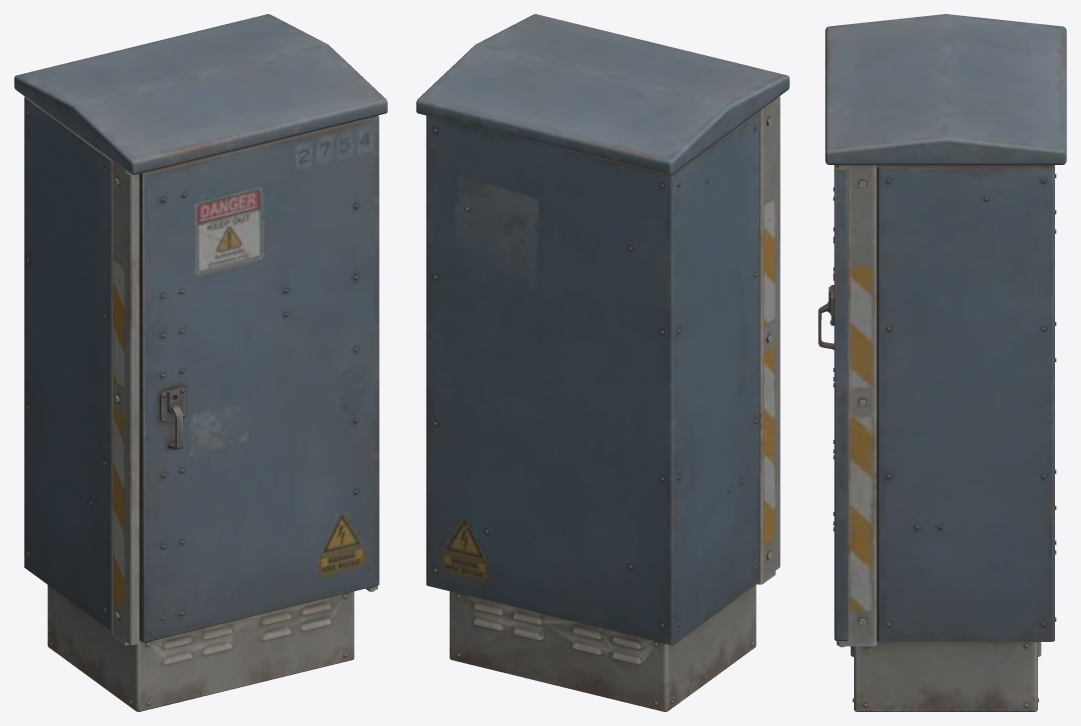
File: utility_box_01.glb
The picture shows the model from 3 angles, left to right: view 1: azimuth 30°, elevation 25°; view 2: azimuth 150°, elevation 25°; view 3: azimuth 270°, elevation 25°; orthographic projection.
Visible parts, largest first — view 1: utility_box_01_box; view 2: utility_box_01_box; view 3: utility_box_01_box.
Part boxes in pixels (x1=…): utility_box_01_box: x1=14, y1=14, x2=387, y2=711; utility_box_01_box: x1=416, y1=14, x2=789, y2=711; utility_box_01_box: x1=818, y1=14, x2=1066, y2=711.
Bounding box in the file's own units: 0.52 × 1.12 × 0.4319.
Materials: 1 (1 with a texture image).
